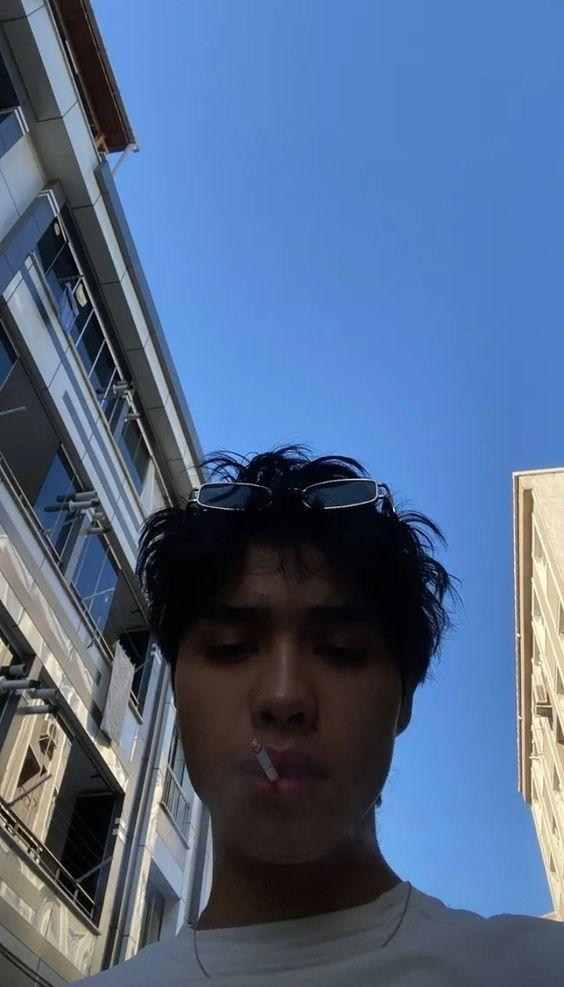cigarette: (250, 736, 281, 781)
